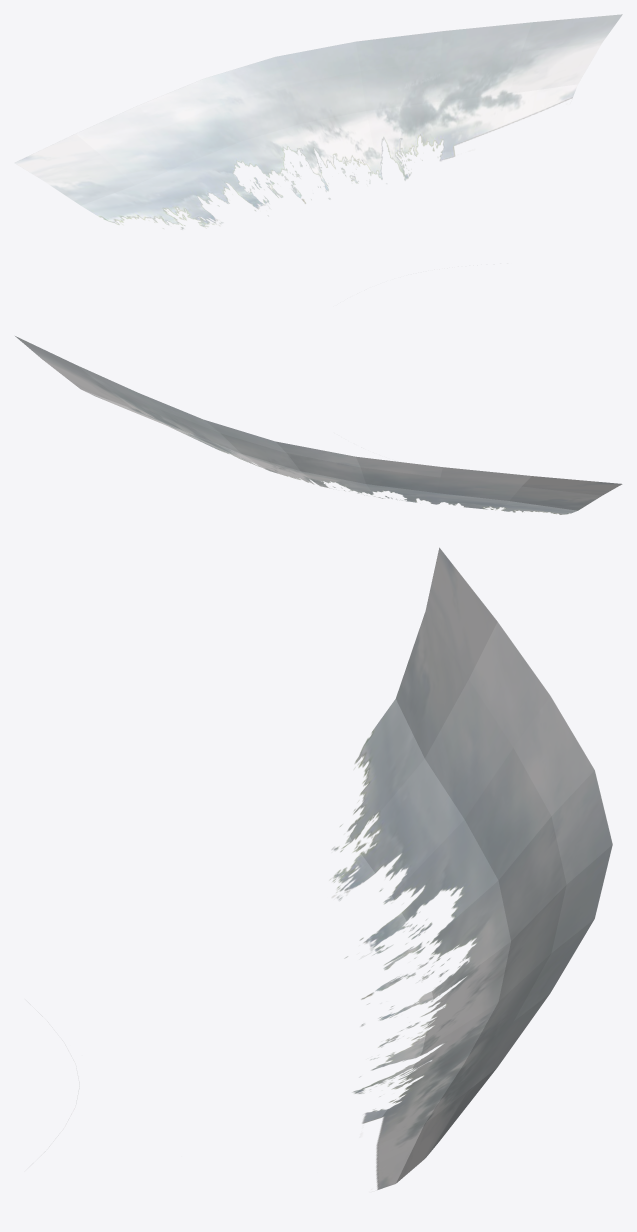
The picture shows the model from 3 angles, top to bottom: view 1: azimuth 30°, elevation 25°; view 2: azimuth 150°, elevation 25°; view 3: azimuth 270°, elevation 25°; orthographic projection. The views are drawn at different scales.
Visible parts, largest first — view 1: Plane; view 2: Plane; view 3: Plane.
Boxes of the visible parts, box(x1,y1,x2,y2) form: Plane: box(14, 14, 622, 229); Plane: box(15, 336, 622, 514); Plane: box(29, 547, 612, 1189).
Bounding box in the file's own units: 71.35 × 13.48 × 29.87.
Materials: 1 (1 with a texture image).
